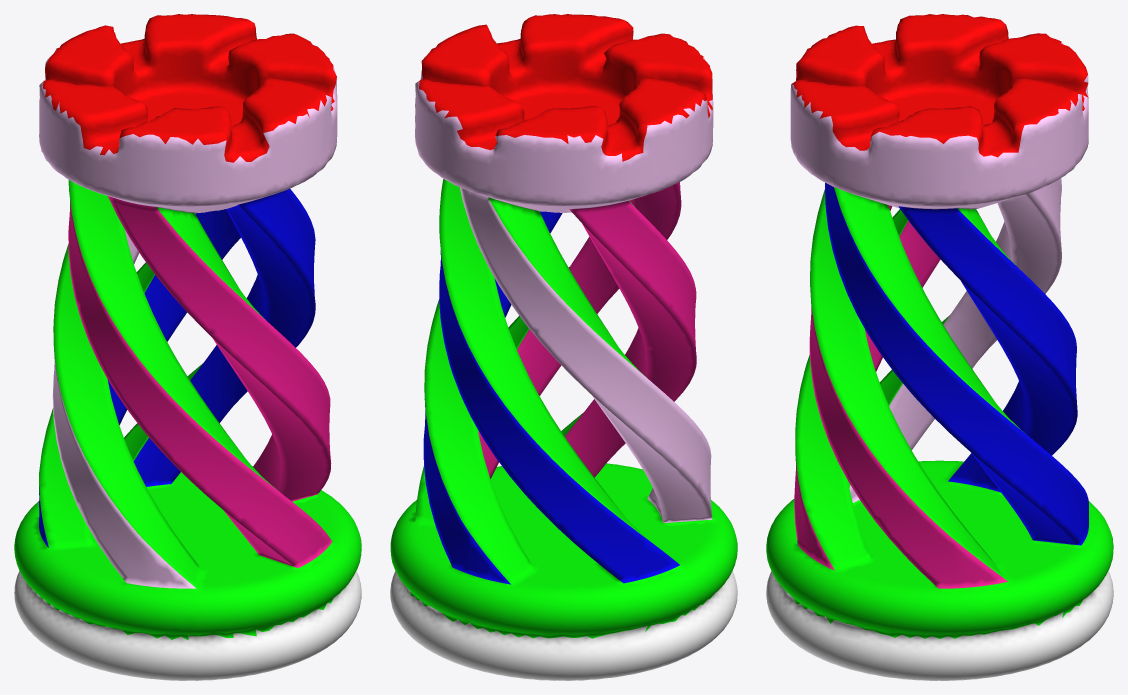
Rendered from model_37845_segmented.obj.
The picture shows the model from 3 angles, left to right: view 1: azimuth 30°, elevation 25°; view 2: azimuth 150°, elevation 25°; view 3: azimuth 270°, elevation 25°; orthographic projection.
Size of the model in its own units: 34.95 by 60.02 by 34.96.
